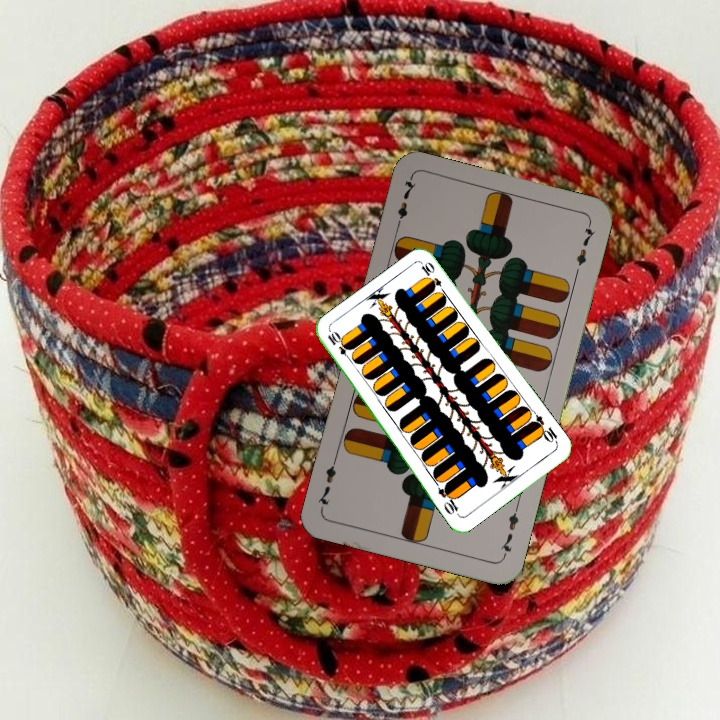E10: (323, 328, 355, 364), (528, 411, 560, 446)
E7: (391, 174, 419, 233), (497, 502, 522, 560)
